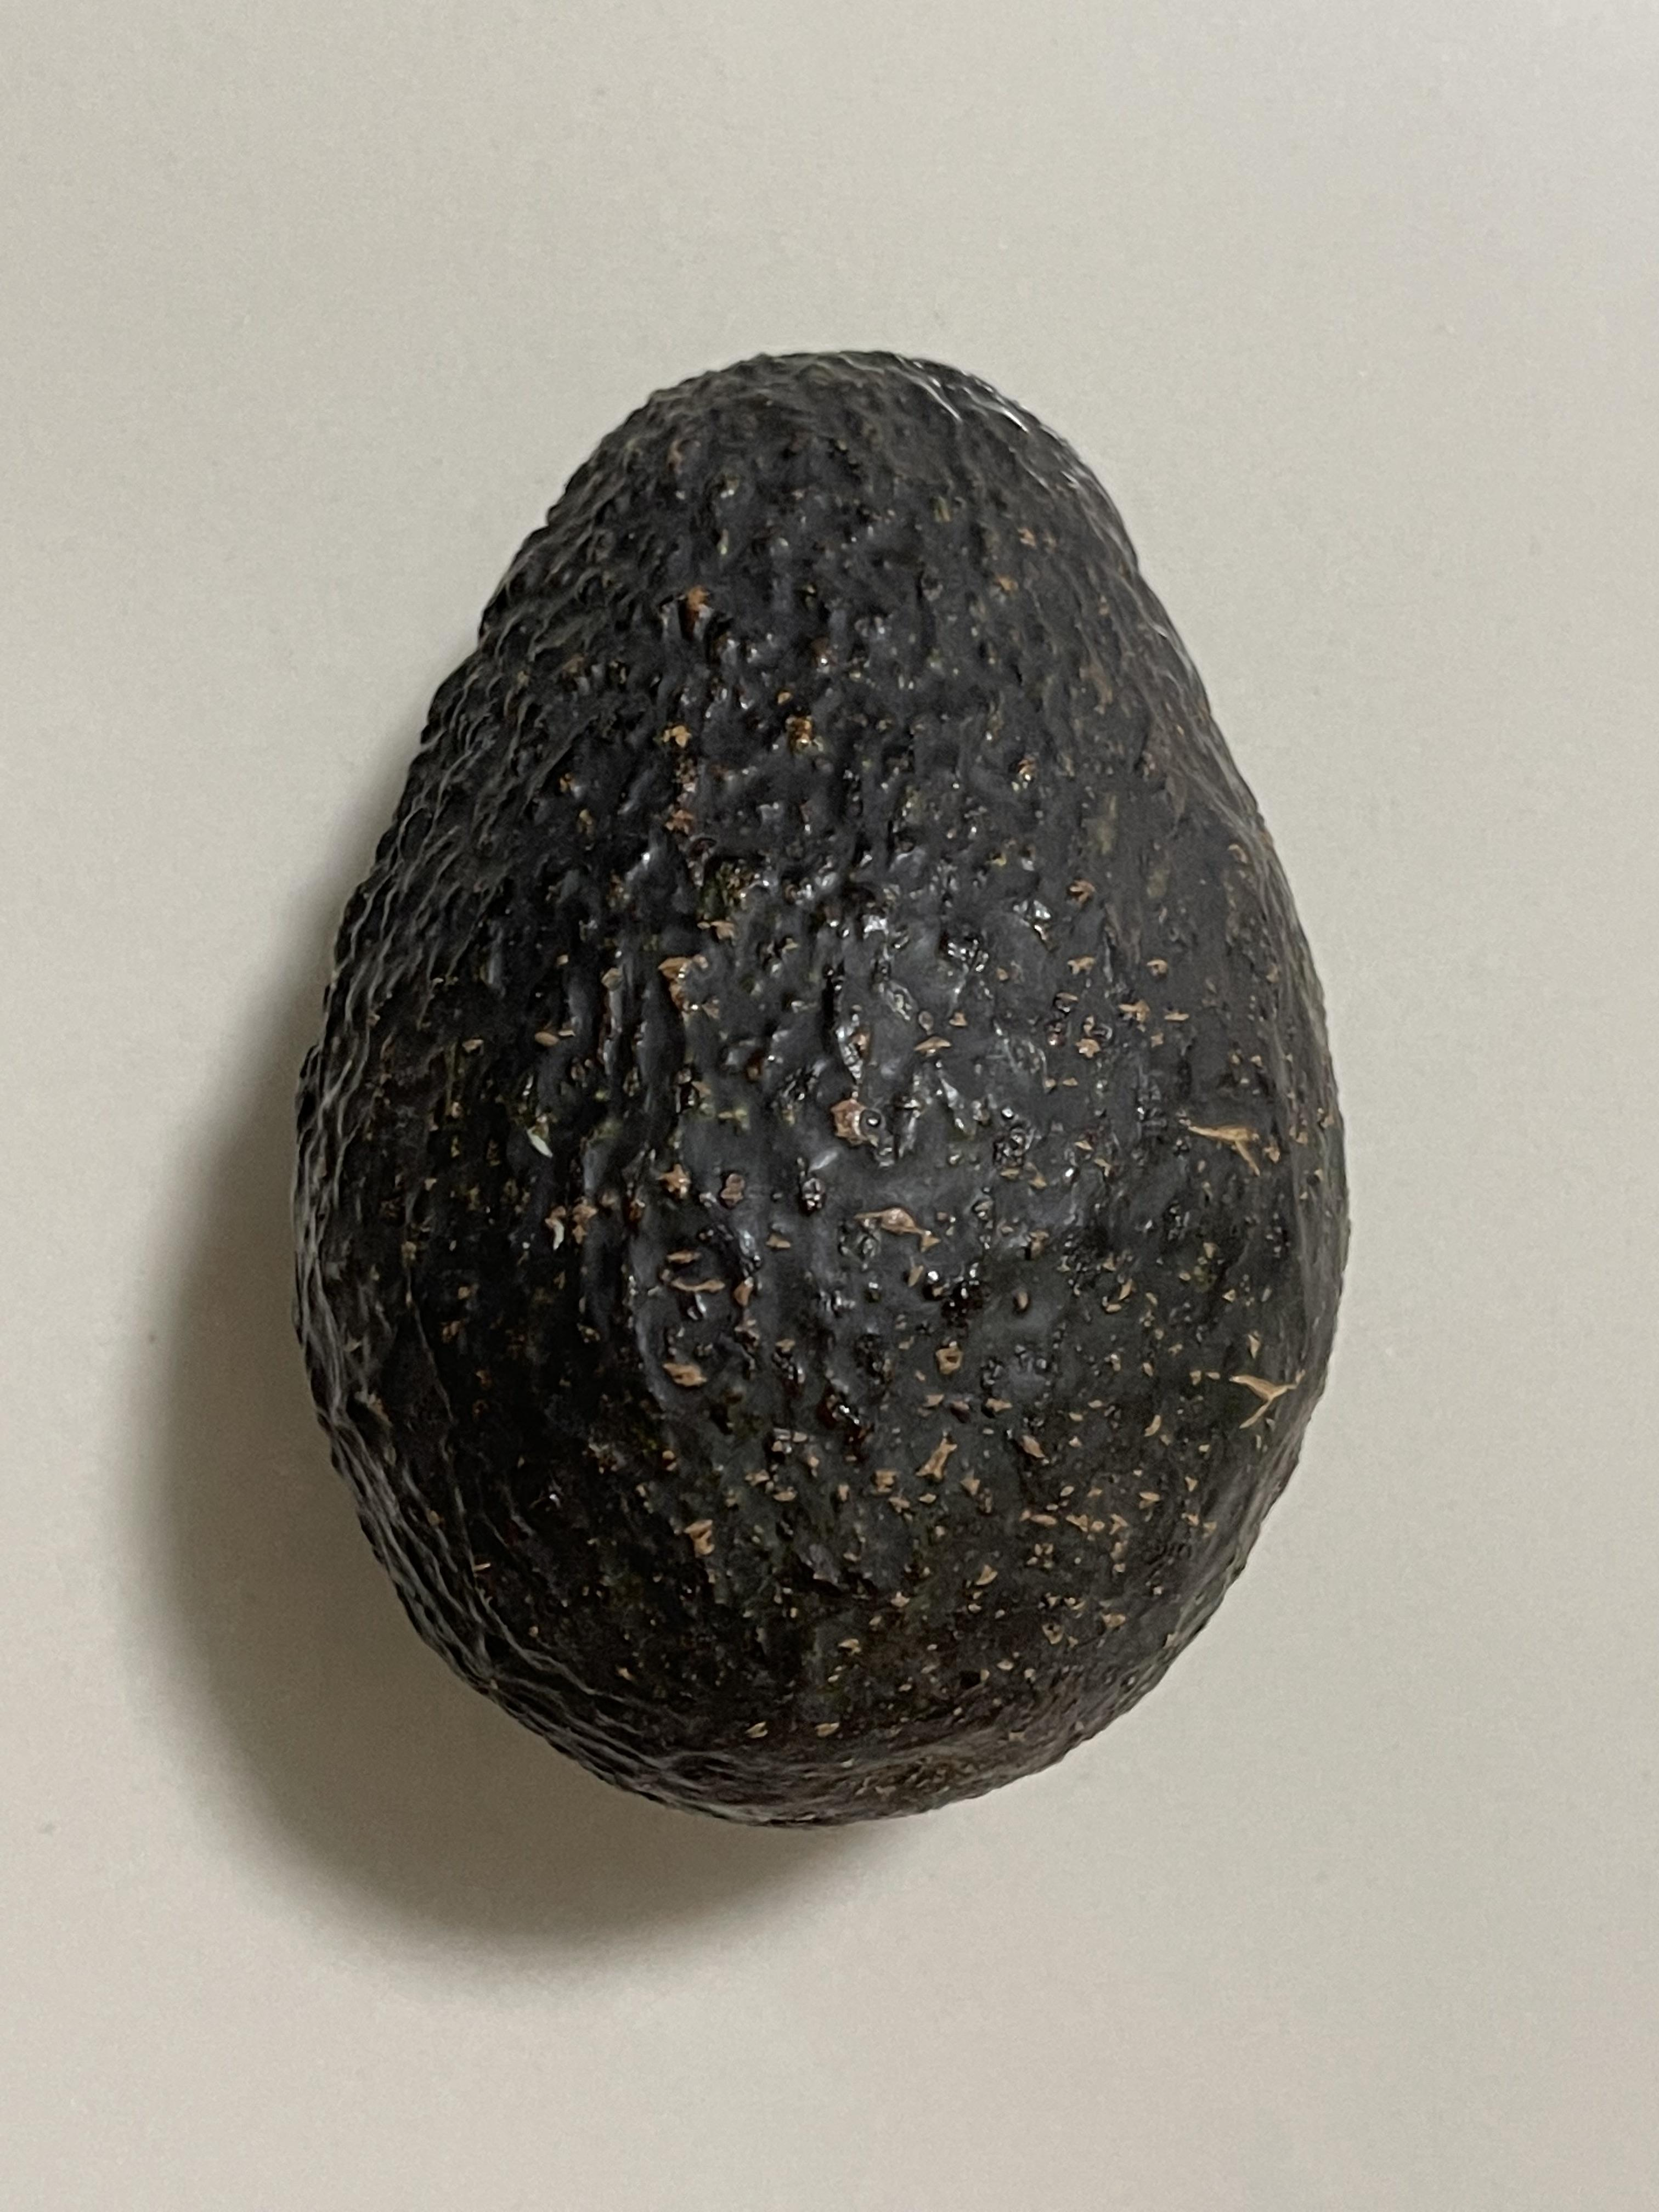Level3: (263, 324, 1368, 1857)
